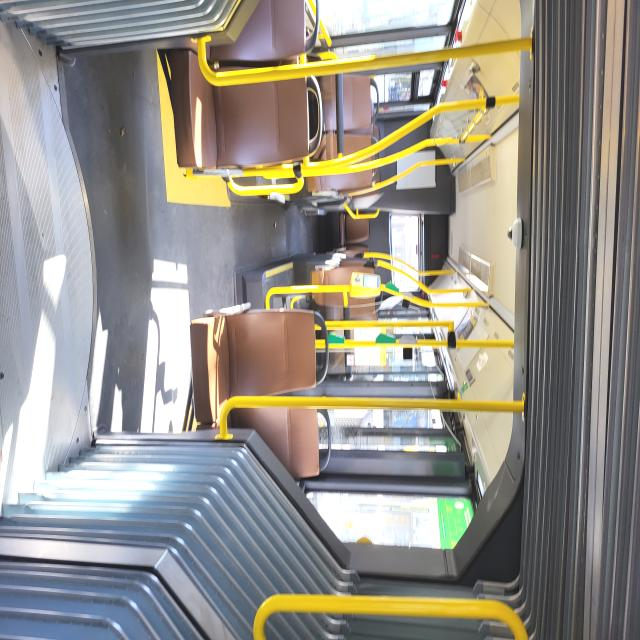asiento-libre: (196, 423, 288, 626), (388, 414, 481, 601), (465, 412, 520, 553), (160, 427, 208, 575), (259, 349, 308, 446), (213, 348, 258, 428), (355, 347, 391, 438), (381, 347, 404, 422), (319, 360, 344, 403)
